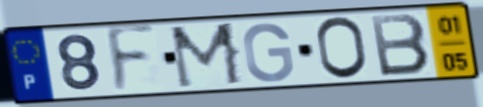8: (55, 33, 104, 93)
B: (368, 12, 433, 79)
F: (104, 22, 159, 98)
G: (240, 20, 297, 84)
M: (167, 20, 247, 91)
O: (313, 15, 371, 82)
